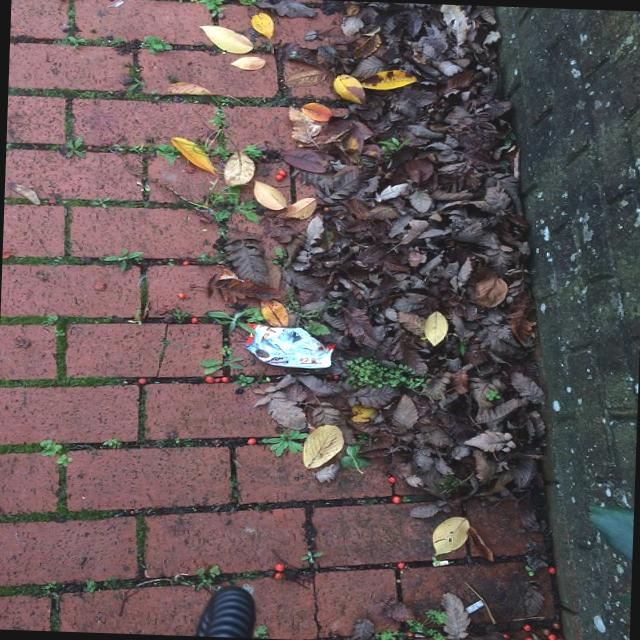Trash: (240, 321, 336, 372)
